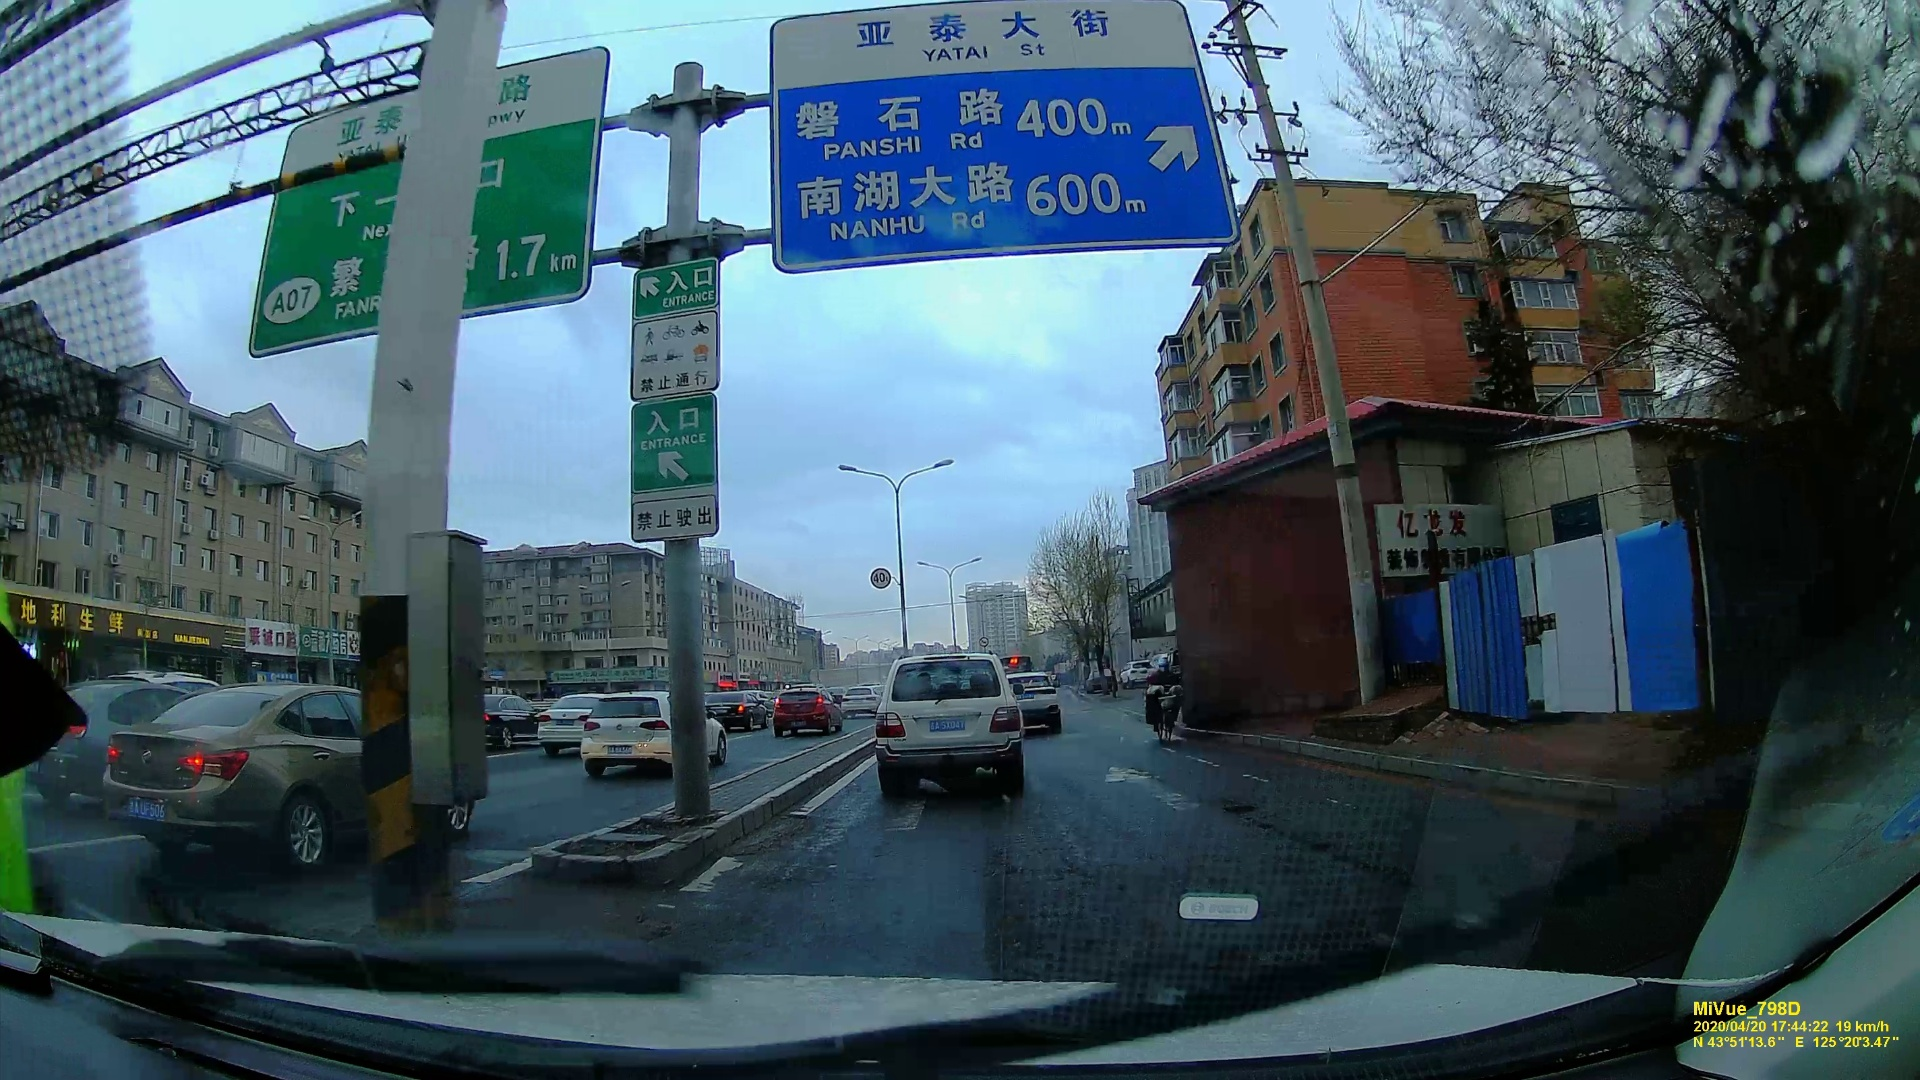person: (1129, 648, 1193, 760)
traffic_sign: (794, 12, 1234, 232), (258, 76, 590, 320), (624, 400, 720, 540), (627, 281, 721, 400)
vehicle: (90, 675, 367, 867), (869, 645, 1026, 793), (538, 689, 722, 778), (769, 685, 844, 736), (1008, 667, 1067, 728)
